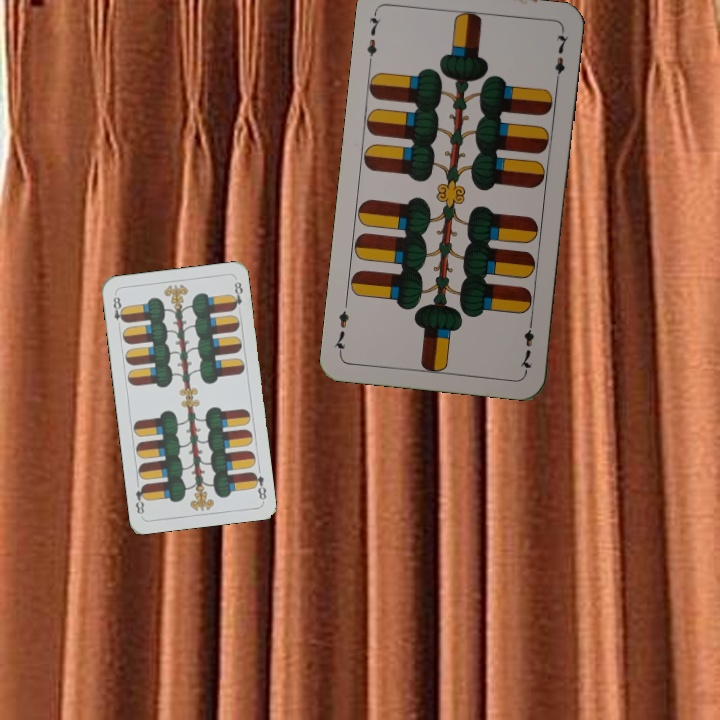E7: (362, 7, 383, 67), (516, 315, 537, 374)
E8: (248, 468, 269, 502), (109, 290, 128, 325)
